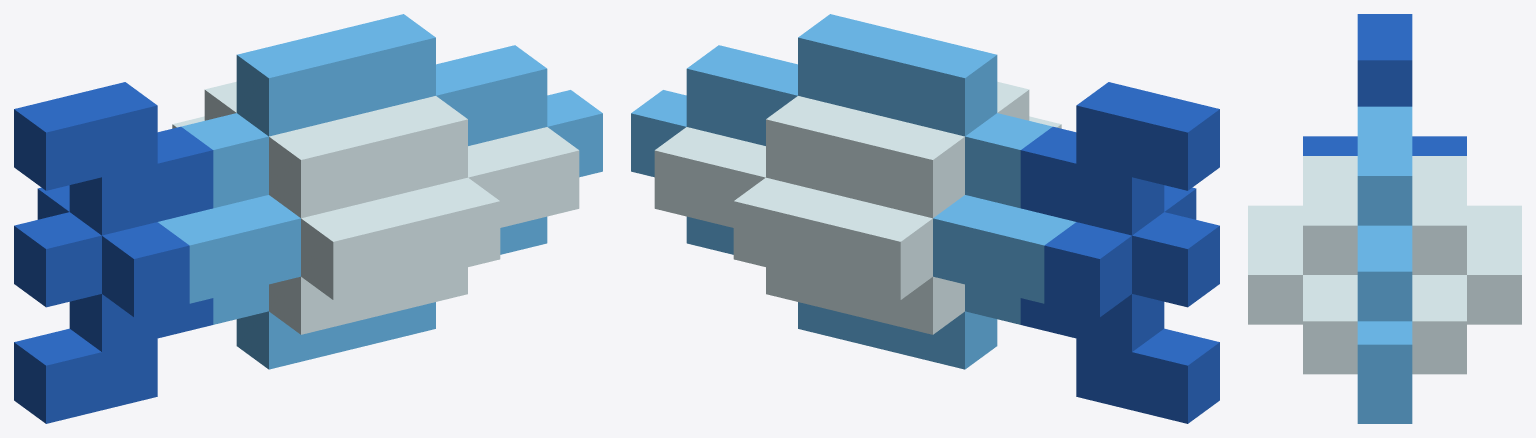
File: frost_shard.glb
3 renders of one model, left to right at view 1: azimuth 30°, elevation 25°; view 2: azimuth 150°, elevation 25°; view 3: azimuth 270°, elevation 25°, orthographic. The views are drawn at different scales.
Parts seen in each view (by area): view 1: f0; view 2: f0; view 3: f0.
Part boxes in pixels (x1=…): f0: x1=14, y1=14, x2=602, y2=423; f0: x1=631, y1=14, x2=1219, y2=423; f0: x1=1248, y1=14, x2=1521, y2=423.
Size of the model in its own units: 0.625 by 0.3125 by 0.3125.
